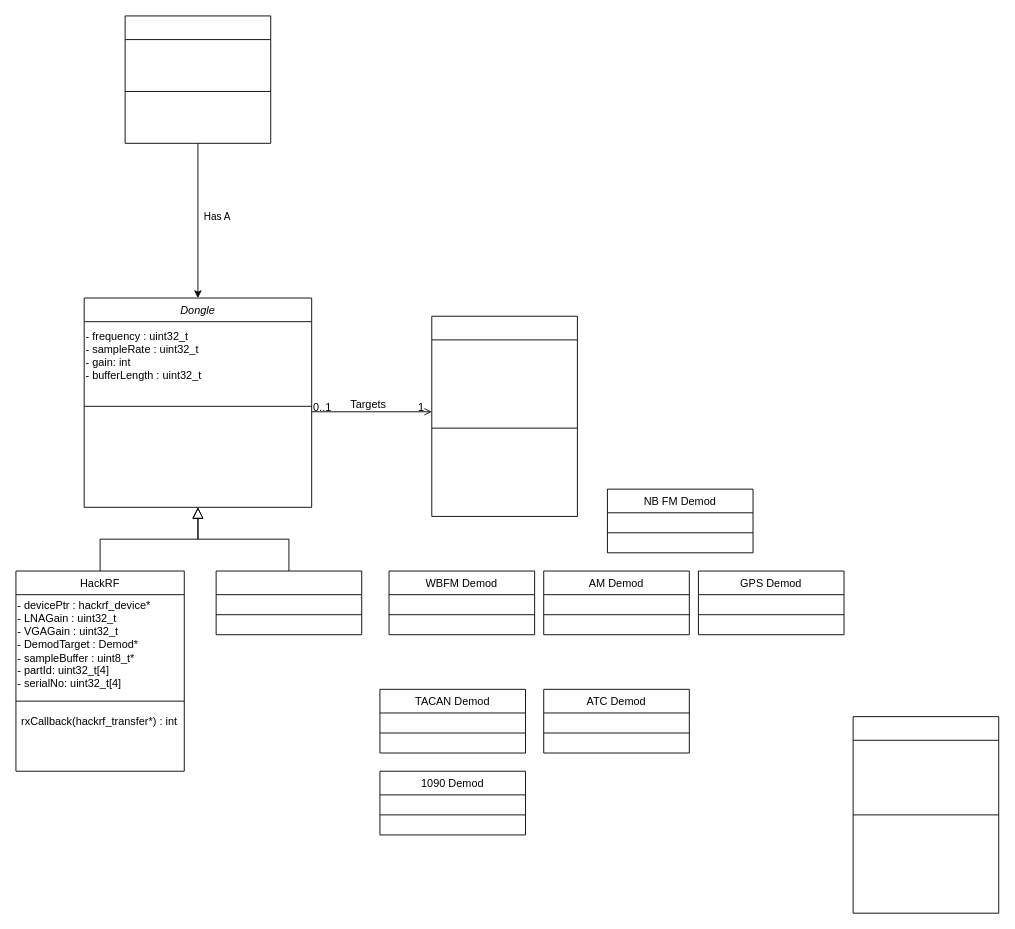
Some shapes in this 1015 by 929 pixel diagram are drawn without their labels. Each missing label, with the centre of its shape:
Demod: [504,415]
Device List: [197,79]
Output: [925,814]
RTLSDR: [288,602]
